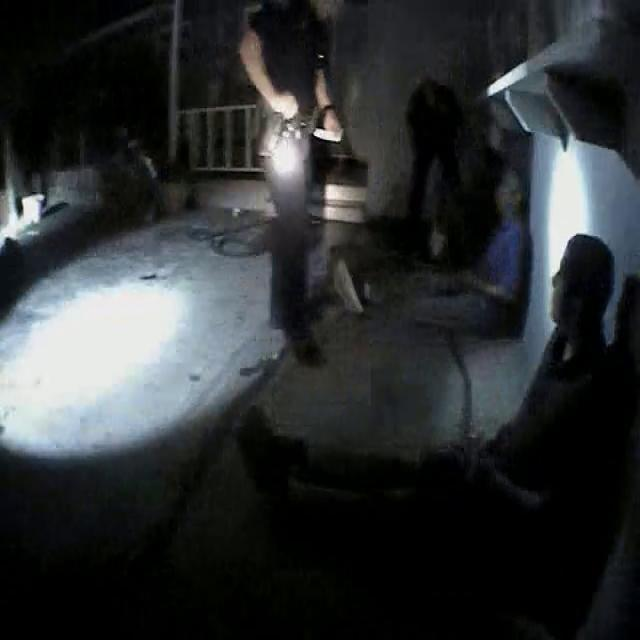gun: (249, 101, 294, 173)
